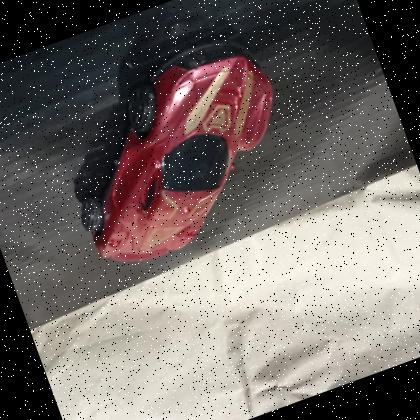Car: (94, 40, 272, 260)
